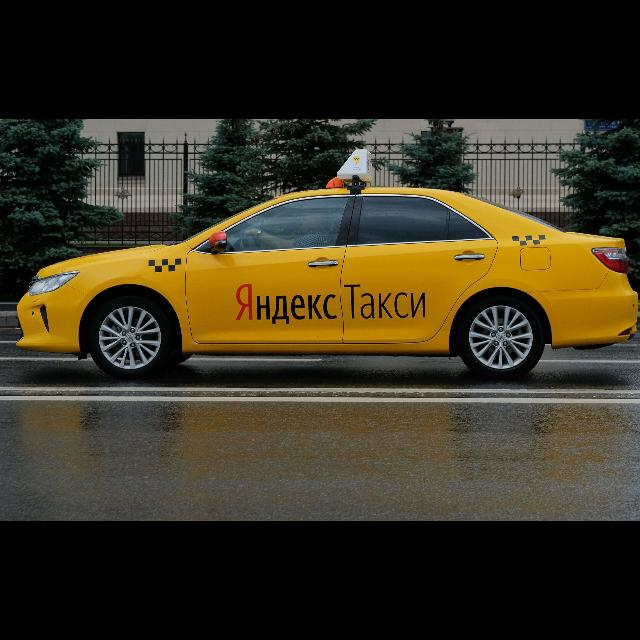taxi: (17, 149, 640, 381)
